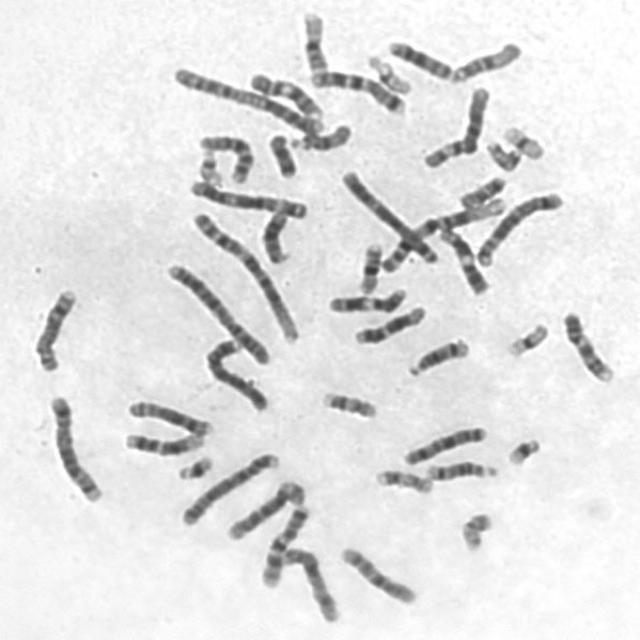A1: (185, 206, 302, 345), (376, 193, 510, 275)
A2: (159, 256, 275, 367), (166, 59, 327, 135)
A3: (336, 163, 442, 267), (183, 173, 311, 220)
B4: (173, 446, 282, 529), (199, 331, 271, 414)
B5: (471, 186, 566, 268), (41, 389, 106, 504)
C10: (333, 539, 420, 607), (194, 128, 256, 185)
C11: (432, 222, 492, 296), (322, 282, 409, 316)
C12: (350, 299, 430, 346), (119, 425, 208, 457)
C6: (418, 80, 493, 170), (220, 473, 309, 542)
C7: (254, 498, 314, 590), (304, 65, 408, 116)
C8: (27, 282, 79, 374), (122, 394, 216, 437)
C9: (556, 305, 618, 385), (245, 66, 326, 121)
D13: (383, 34, 455, 82), (255, 204, 293, 265)
D14: (402, 332, 472, 378), (419, 454, 500, 482)
D15: (446, 36, 524, 84), (284, 116, 354, 152)
E16: (296, 4, 332, 74), (352, 237, 384, 295)
E17: (316, 385, 381, 421), (370, 462, 436, 496)
E18: (454, 170, 509, 210), (262, 128, 299, 180)
F19: (500, 316, 552, 359), (498, 120, 547, 162)
F20: (454, 506, 496, 552), (480, 134, 524, 172)
G21: (501, 431, 544, 467), (171, 448, 216, 481)
G22: (362, 48, 414, 96), (192, 144, 225, 186)
X: (272, 541, 343, 625), (398, 420, 490, 467)
